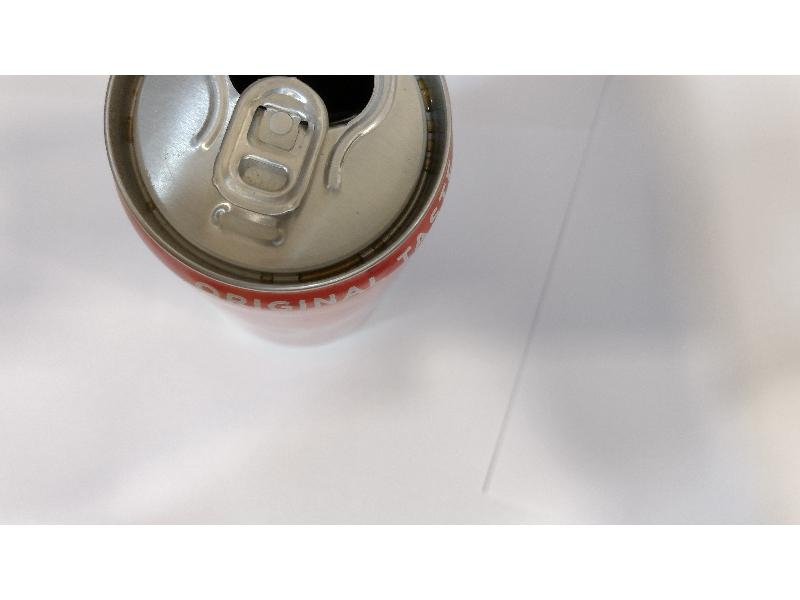can: (102, 78, 460, 353)
